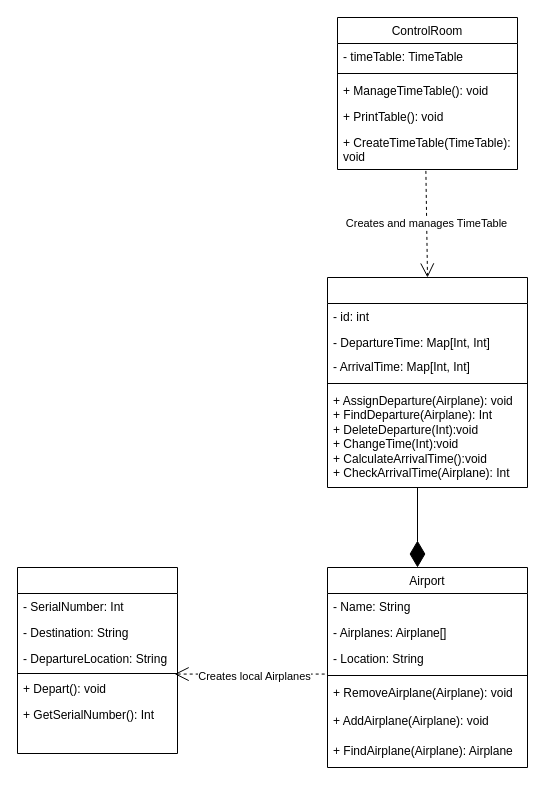
Image size: 545x788. Some labels were removed from this diagram. Each missing label, with the box of its shape:
Airplane: (16, 566, 178, 754)
TimeTable: (326, 276, 528, 488)
